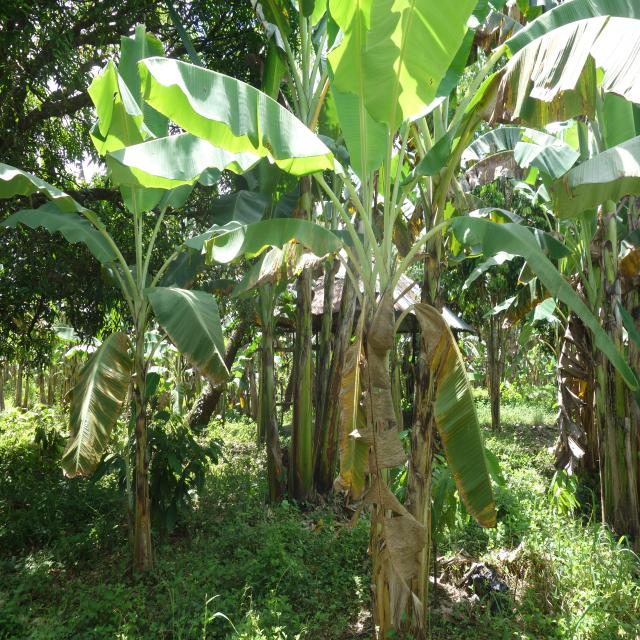Banana-plant: (568, 153, 639, 540), (290, 118, 322, 504), (329, 200, 361, 501), (128, 342, 163, 576), (253, 236, 282, 509)
